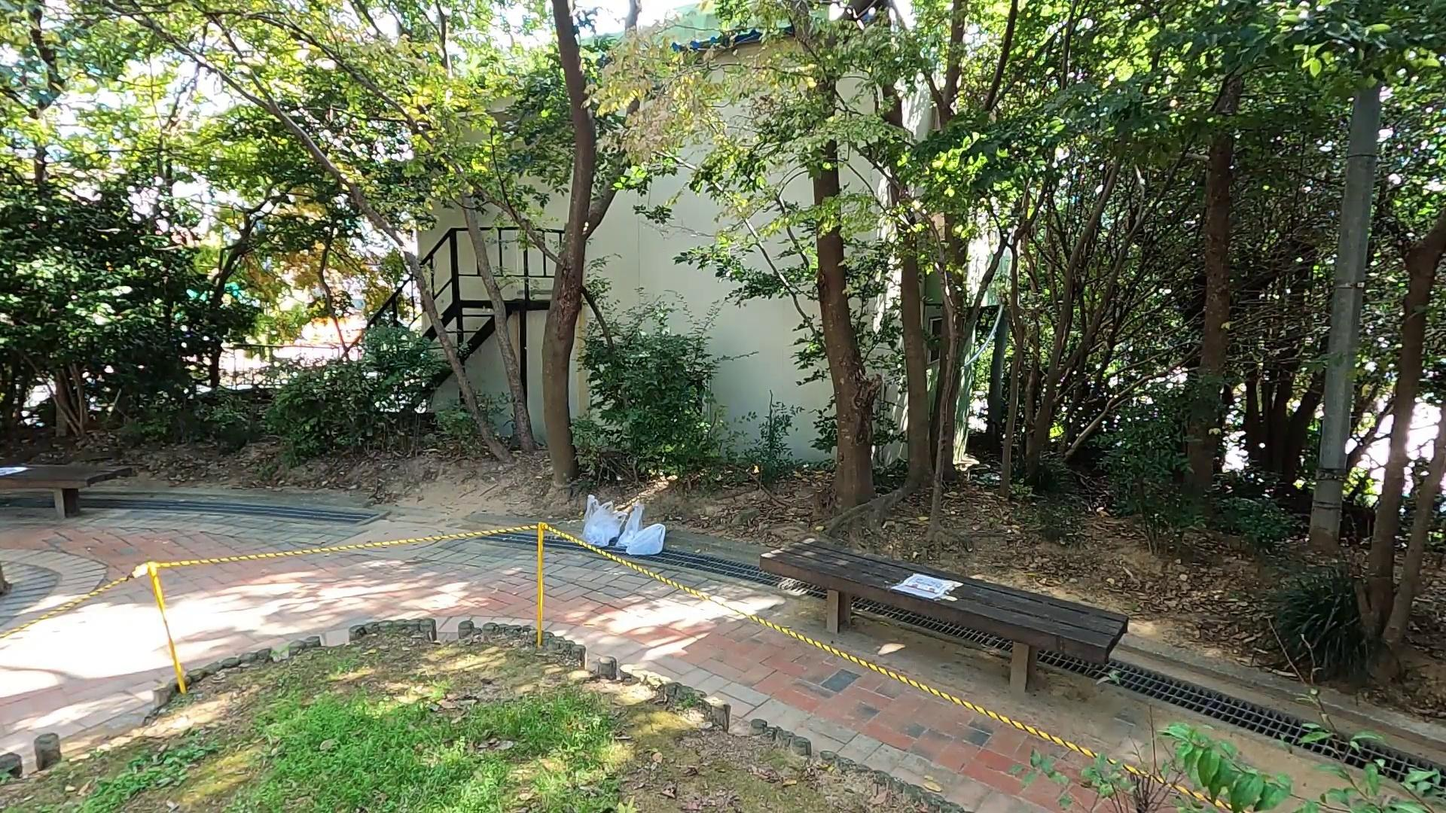trash: (579, 489, 621, 553), (622, 516, 675, 560), (614, 491, 648, 553)
